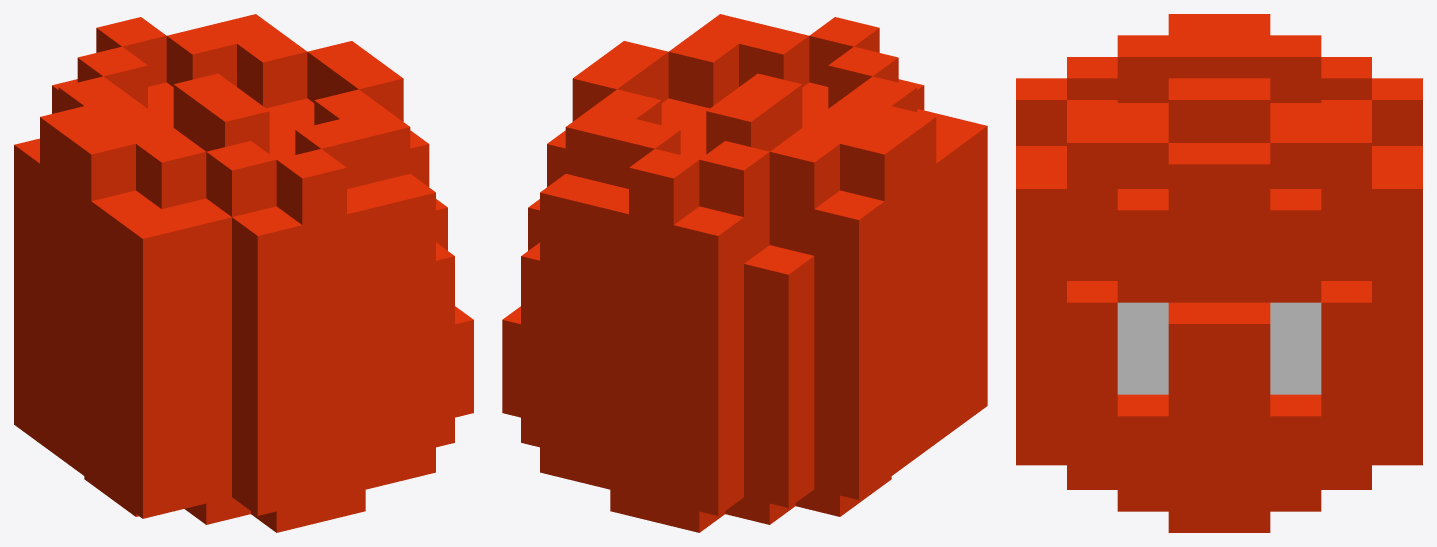
Rendered from head_armor1.gltf.
The picture shows the model from 3 angles, left to right: view 1: azimuth 30°, elevation 25°; view 2: azimuth 150°, elevation 25°; view 3: azimuth 270°, elevation 25°; orthographic projection.
Parts seen in each view (by area): view 1: Layer.1; view 2: Layer.1; view 3: Layer.1.
Boxes of the visible parts, left/top/right/bottom form: Layer.1: left=14, top=14, right=473, bottom=532; Layer.1: left=502, top=14, right=987, bottom=532; Layer.1: left=1016, top=14, right=1422, bottom=532.
Size of the model in its own units: 8 by 8 by 8.
Materials: 1 (1 with a texture image).
